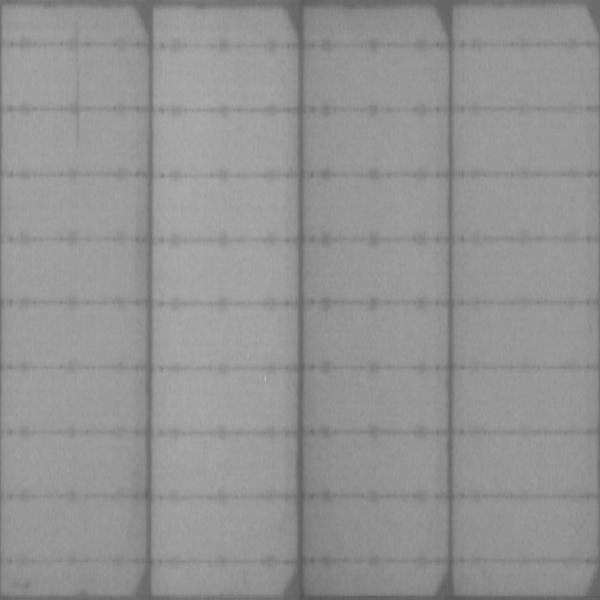scratch: (71, 13, 88, 152)
